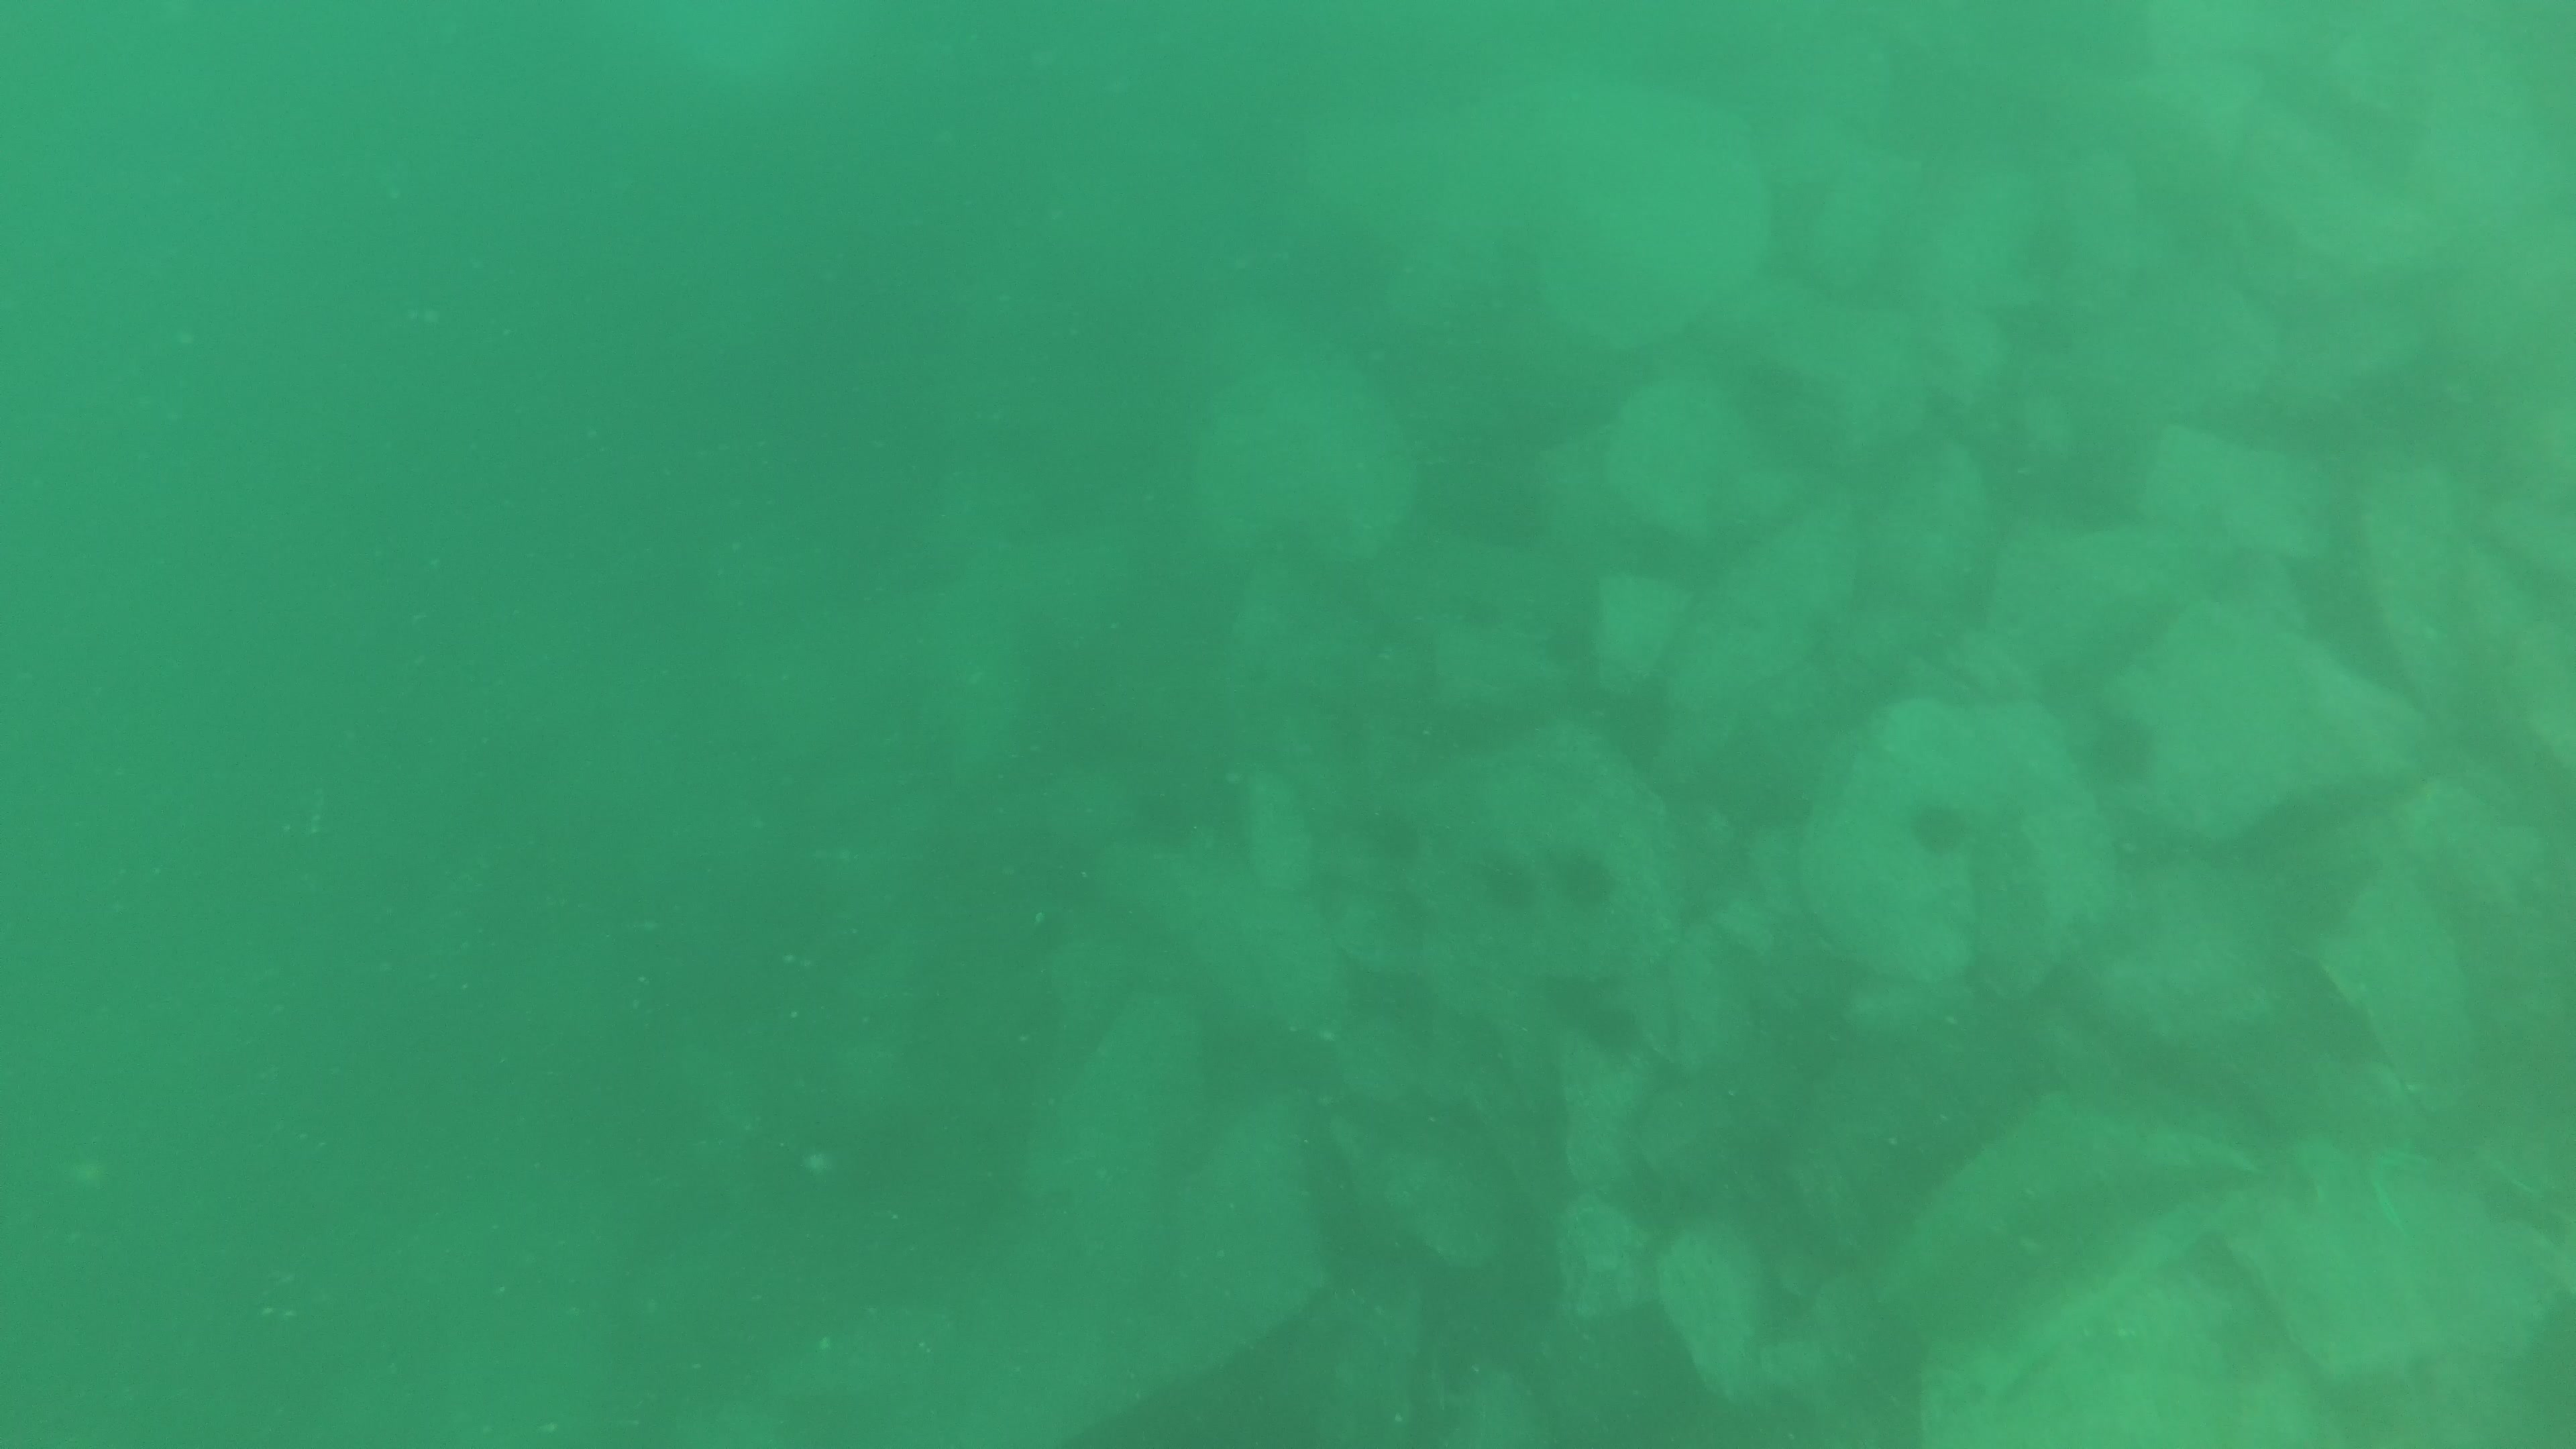echinus: (1546, 839, 1626, 918), (2079, 706, 2155, 780), (1589, 994, 1656, 1074), (1488, 846, 1557, 916), (1907, 794, 1966, 851)
